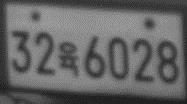0: (107, 36, 129, 80)
2: (132, 38, 155, 84), (34, 31, 57, 76)
3: (10, 29, 31, 74)
6: (83, 34, 106, 80)
8: (156, 40, 180, 85)
육: (58, 40, 80, 77)
